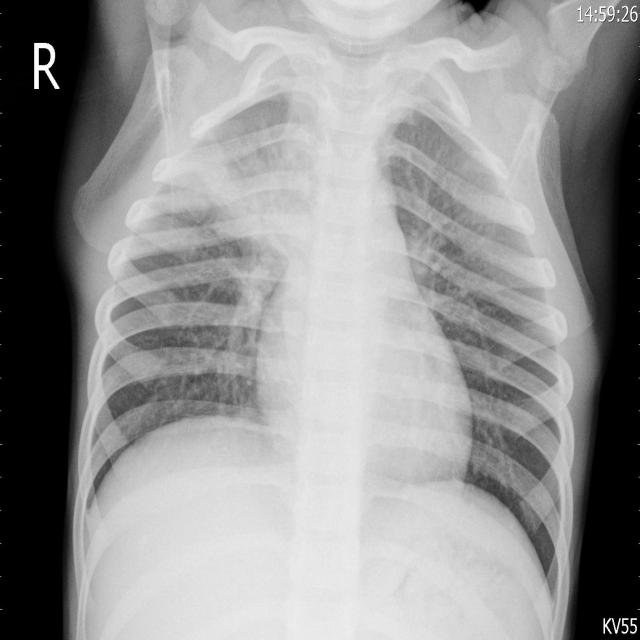high-pneumonia: (177, 141, 283, 322)
low-pneumonia: (409, 182, 481, 332)
